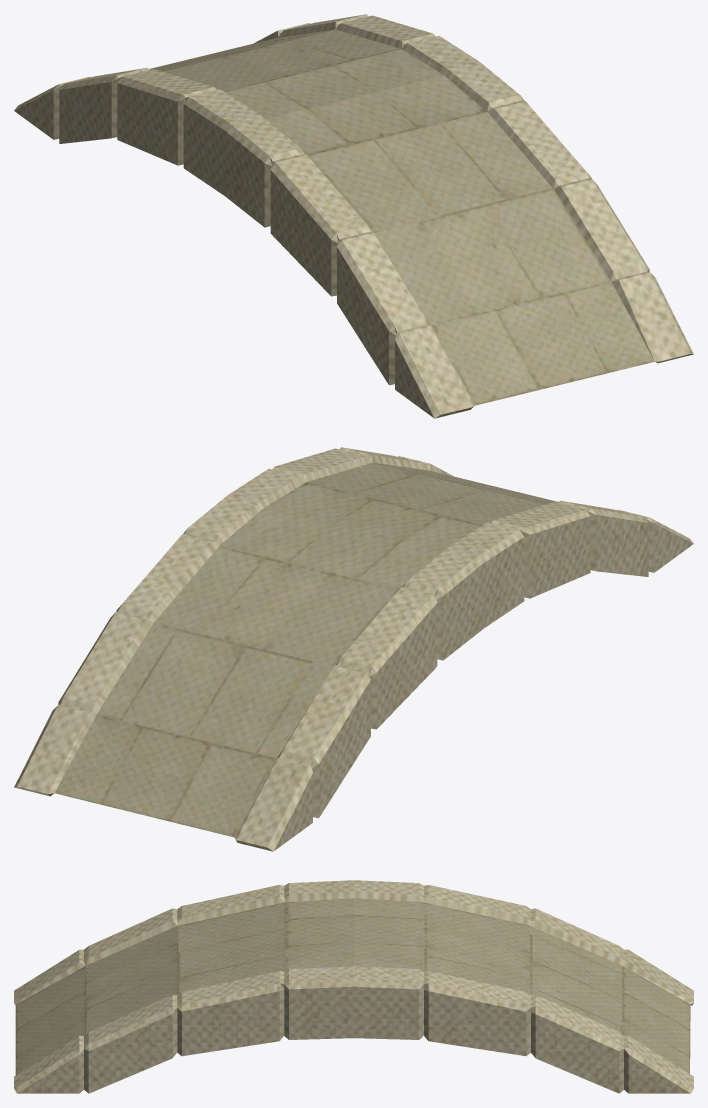
The model's file is ForestHomeBridge.dae.
3 renders of one model, top to bottom at view 1: azimuth 30°, elevation 25°; view 2: azimuth 150°, elevation 25°; view 3: azimuth 270°, elevation 25°, orthographic. The views are drawn at different scales.
Visible parts, largest first — view 1: m1, m0; view 2: m1, m0; view 3: m0, m1.
Boxes of the visible parts, bbox=[...] form: m1: bbox=[150, 29, 654, 405]; m0: bbox=[14, 14, 693, 418]; m1: bbox=[55, 462, 557, 837]; m0: bbox=[14, 447, 693, 851]; m0: bbox=[14, 880, 693, 1093]; m1: bbox=[15, 898, 690, 1074].
Bounding box in the file's own units: 520 × 268 × 1461.
Materials: 2 (2 with a texture image).
